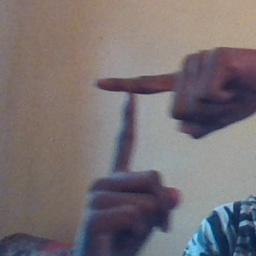T: (82, 58, 194, 188)
